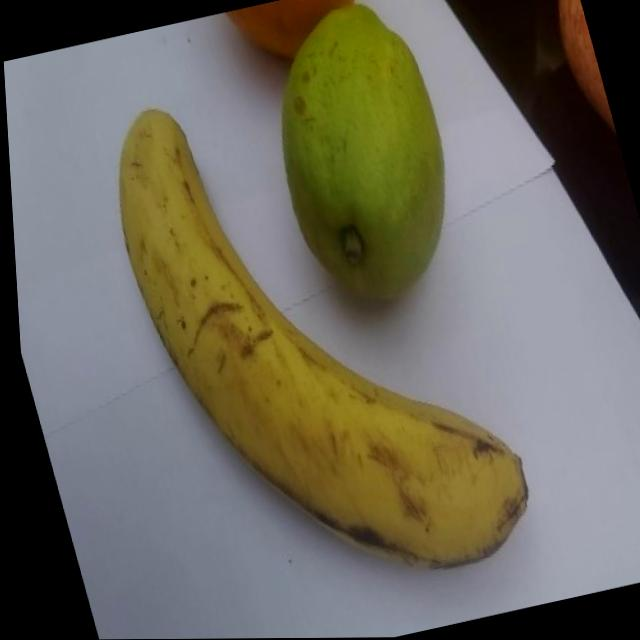Apple: (534, 0, 615, 142)
Banana: (77, 44, 550, 624)
Orange: (218, 0, 404, 77)
